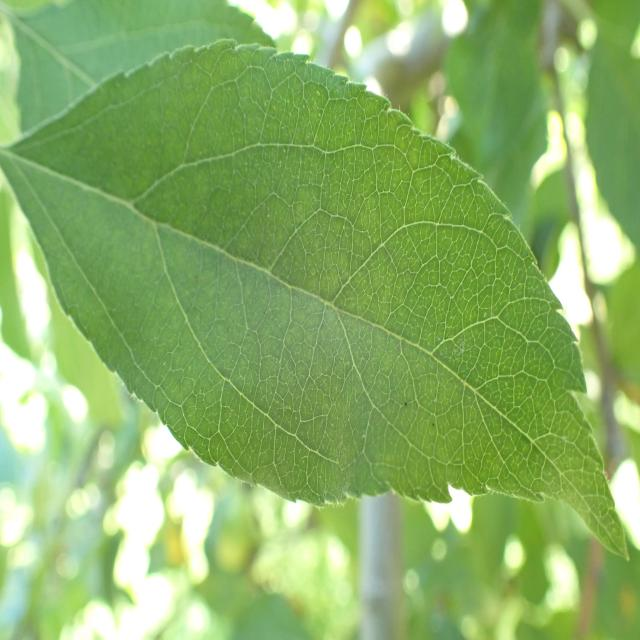healthy: (4, 37, 634, 566)
